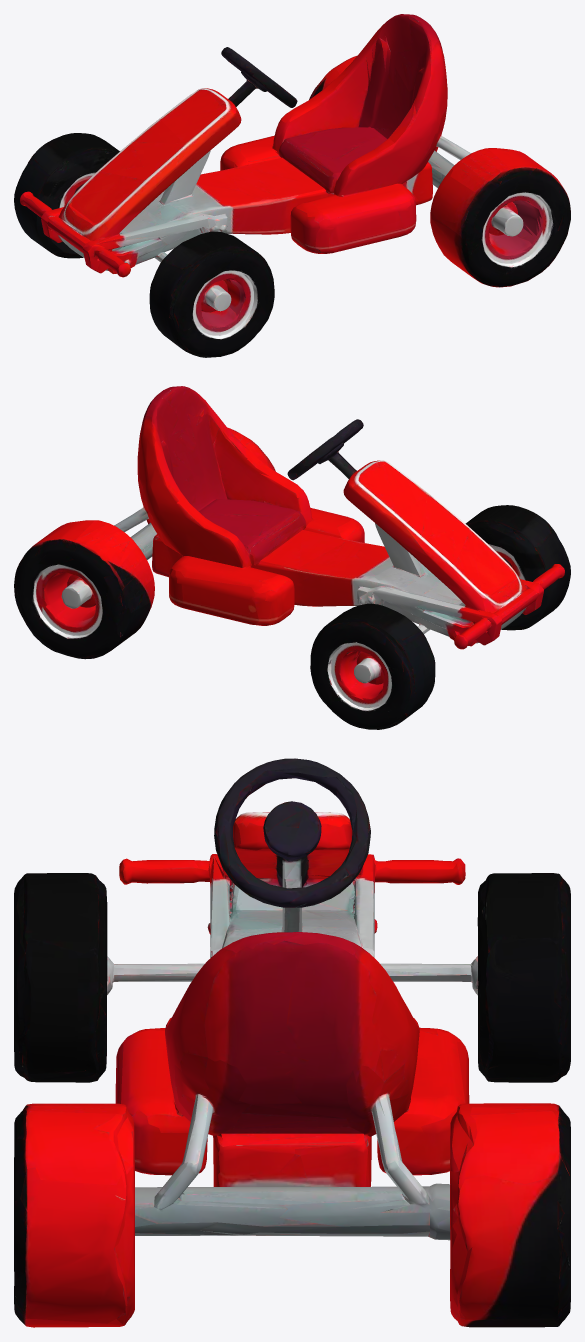
The model's file is veh_gokart.glb.
The picture shows the model from 3 angles, top to bottom: view 1: azimuth 30°, elevation 25°; view 2: azimuth 150°, elevation 25°; view 3: azimuth 270°, elevation 25°; orthographic projection. The views are drawn at different scales.
Size of the model in its own units: 1.9 by 0.9583 by 1.24.
Materials: 1 (1 with a texture image).
